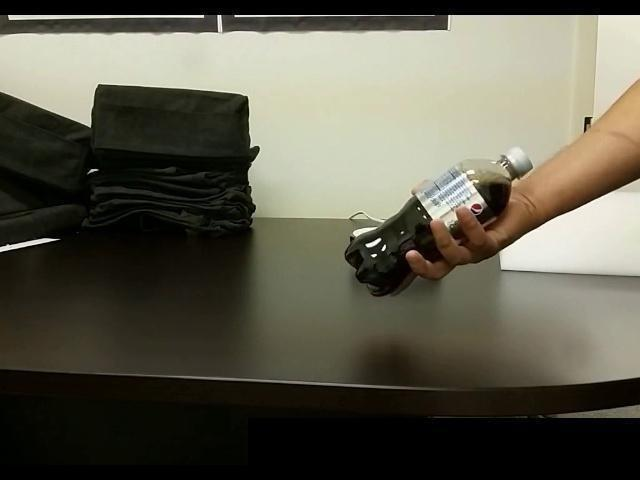bottle-plastic: (341, 141, 539, 301)
